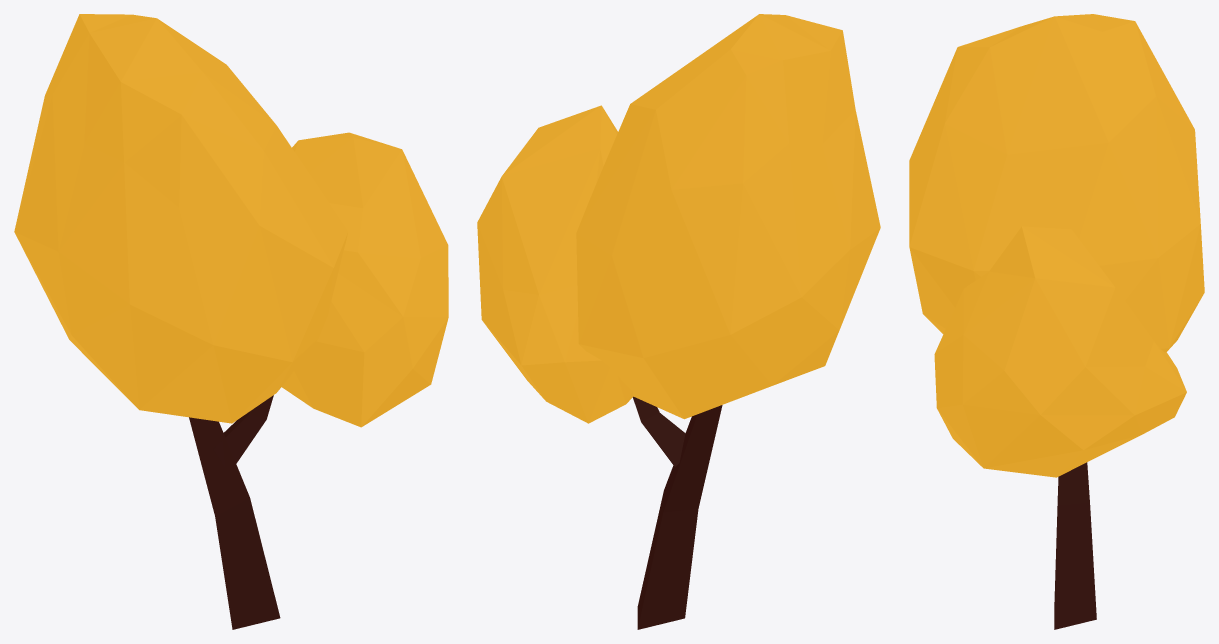
File: Tree.glb
The picture shows the model from 3 angles, left to right: view 1: azimuth 30°, elevation 25°; view 2: azimuth 150°, elevation 25°; view 3: azimuth 270°, elevation 25°; orthographic projection. The views are drawn at different scales.
Parts seen in each view (by area): view 1: Tree; view 2: Tree; view 3: Tree.
Boxes of the visible parts, bbox=[...] form: Tree: bbox=[14, 14, 448, 629]; Tree: bbox=[477, 14, 880, 629]; Tree: bbox=[909, 14, 1204, 629].
Size of the model in its own units: 20.86 by 33.42 by 15.98.
